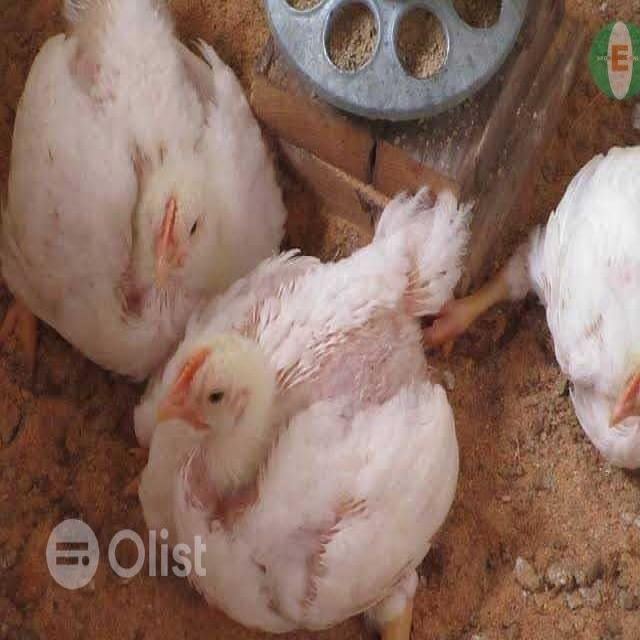poussin: (119, 222, 495, 628), (18, 5, 276, 370), (444, 150, 640, 505)
